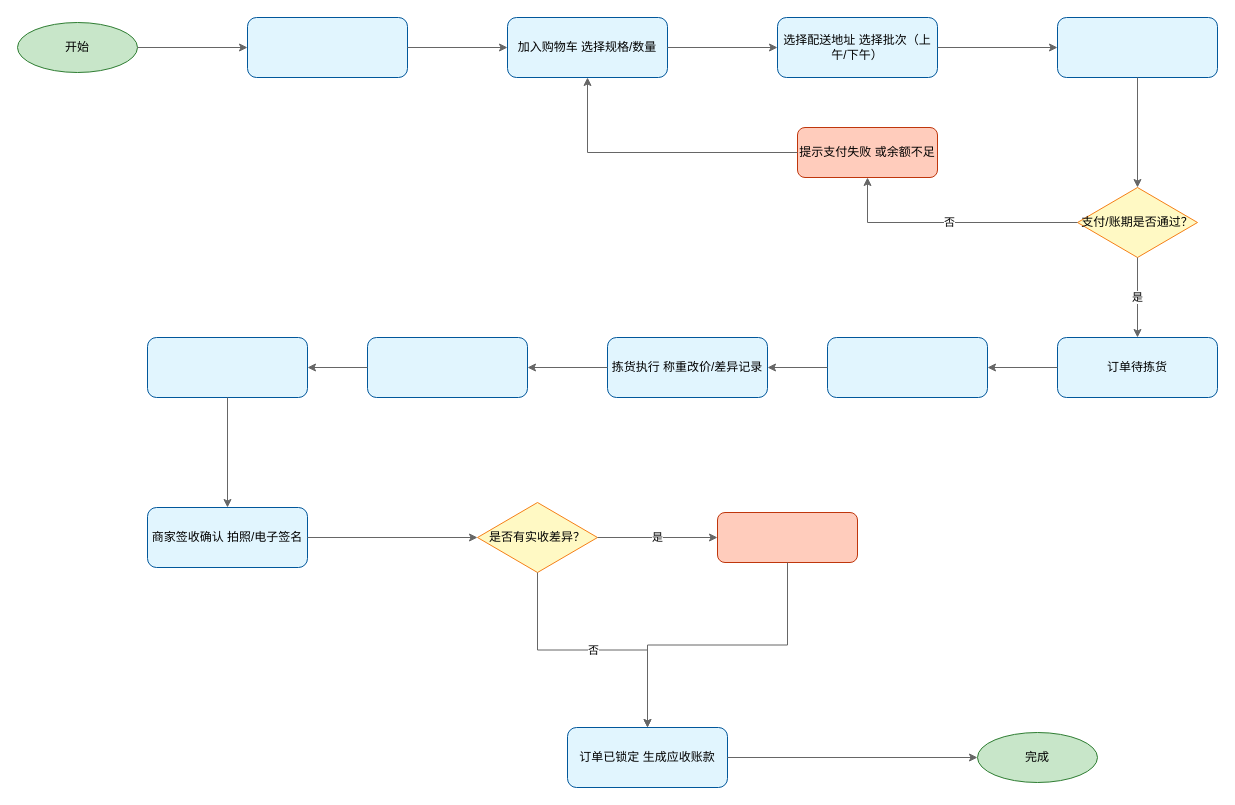
Some shapes in this 1235 by 805 pixel diagram are drawn without their labels. The shapes that lost their labels are listed below. From the top down, each one's centre as x and y in pixels, then its label:
At (327,47): "商家浏览/搜索商品 智能推荐/常购清单".
At (1137,47): "提交订单 余额/账期/现结".
At (227,367): "司机配送中 轨迹实时上报".
At (447,367): "创建配送任务 分配司机/车辆".
At (907,367): "创建拣货任务 分配拣货员".
At (787,537): "创建实收差异单".
